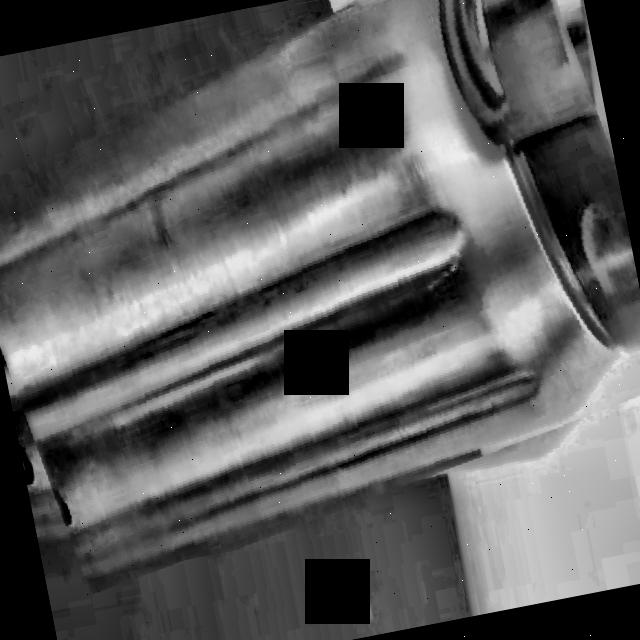bottle: (0, 0, 640, 580)
